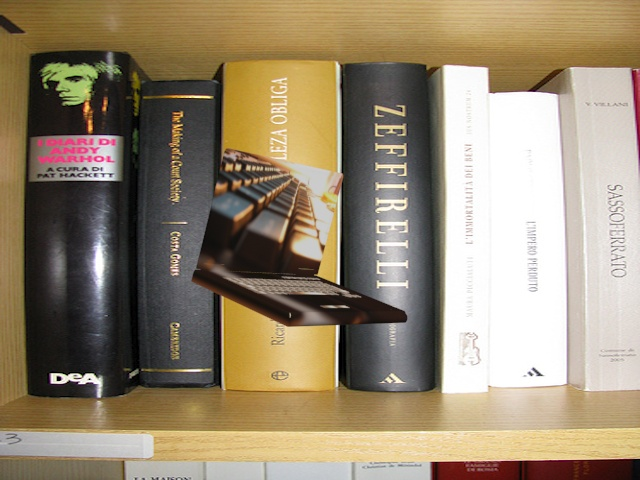laptop_computer: (185, 144, 416, 337)
